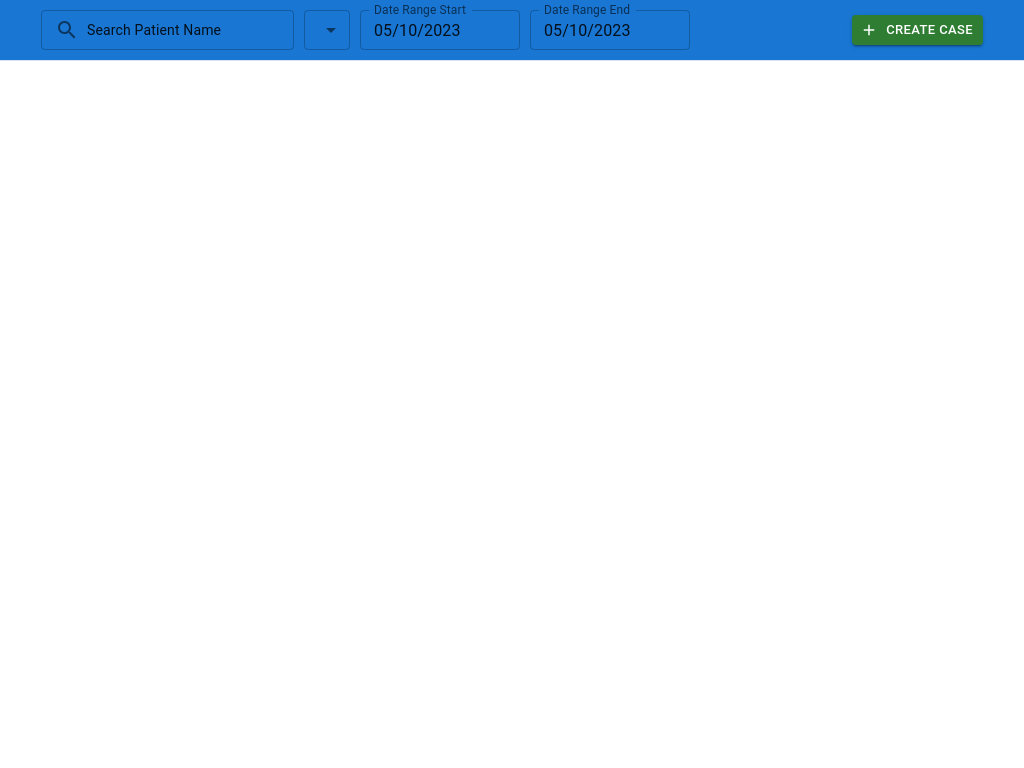
Test: CaseNavBar › open create case dialog and close it
The image size is (1024, 768).
Click the button "Create Case" at [918, 30], box [852, 15, 983, 45]
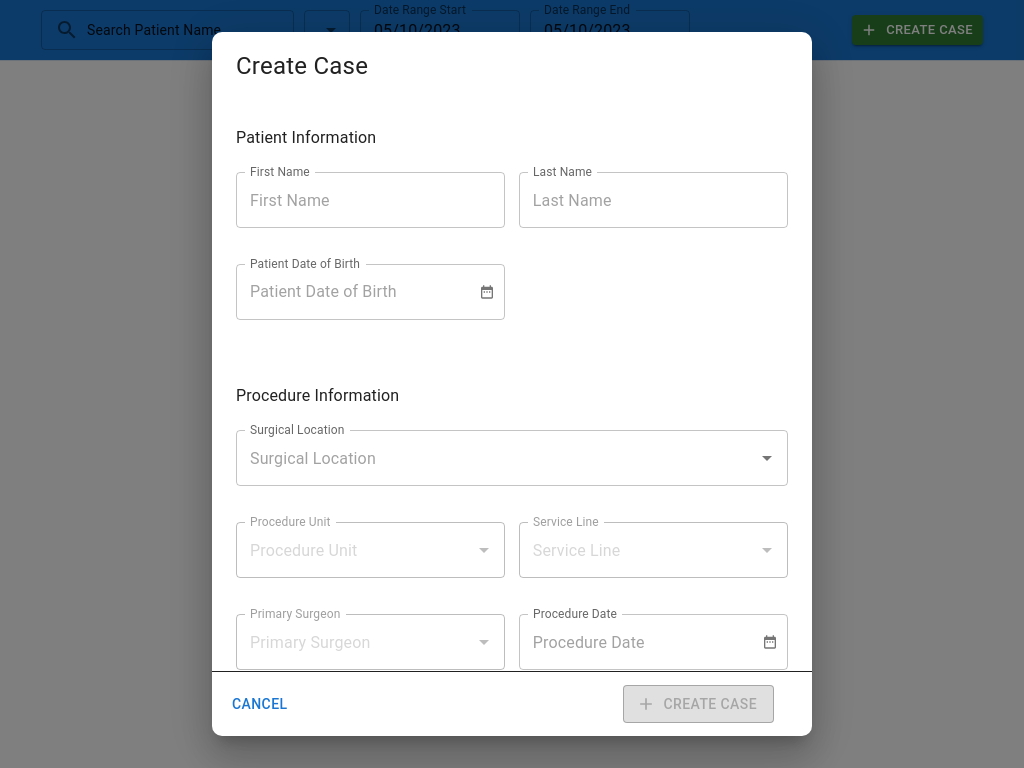
expect the button "Cancel" is shown: met
Click the button "Cancel" at [260, 704], box [222, 682, 298, 726]
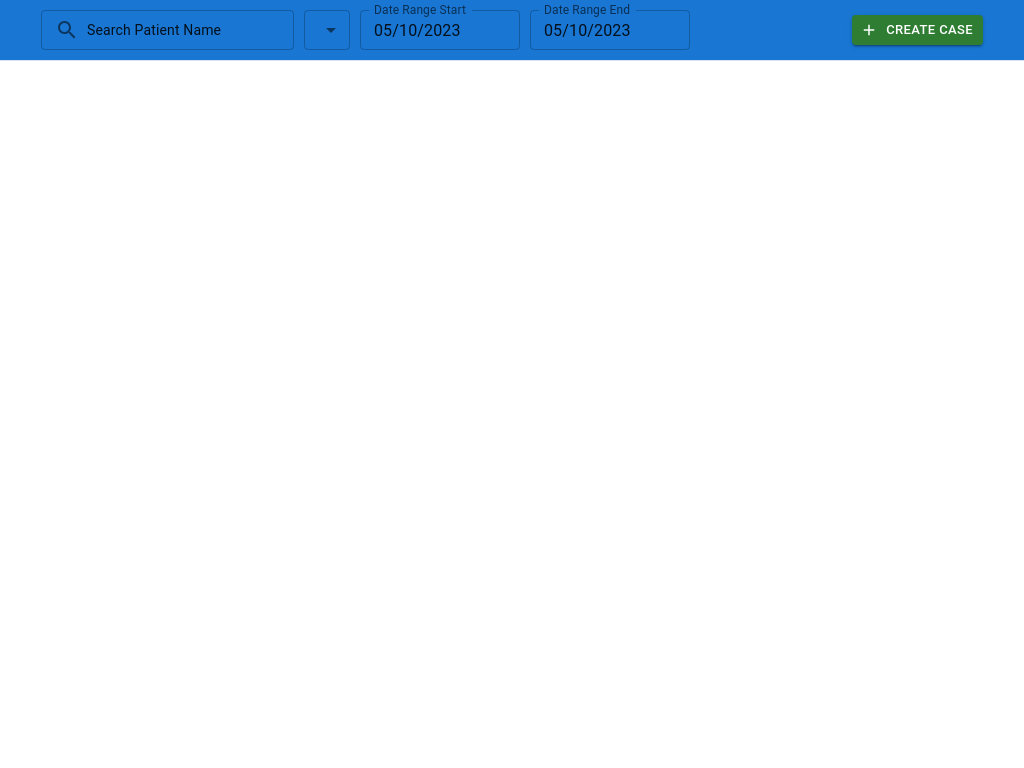
expect the button "Cancel" is gone: met
